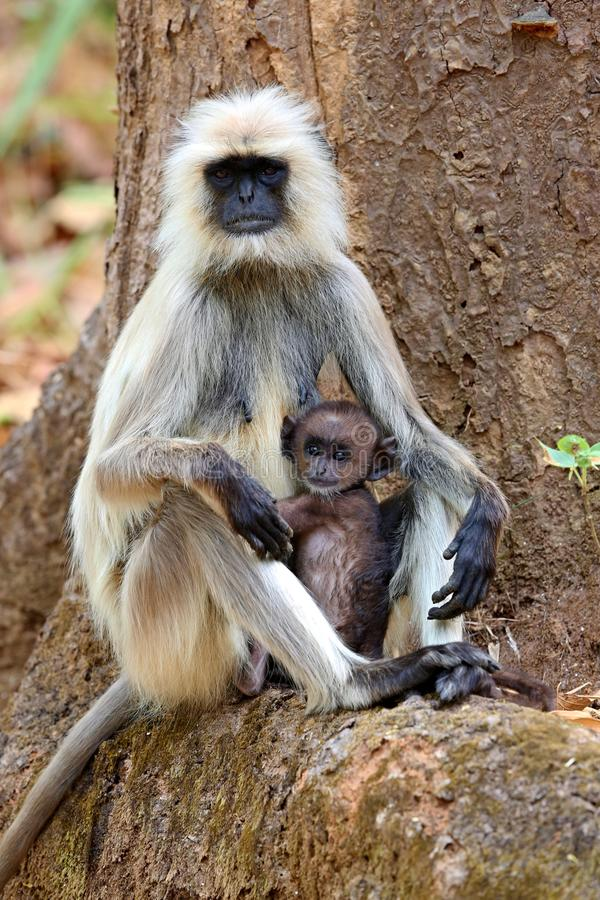langur: (70, 79, 513, 729), (240, 401, 394, 697)
